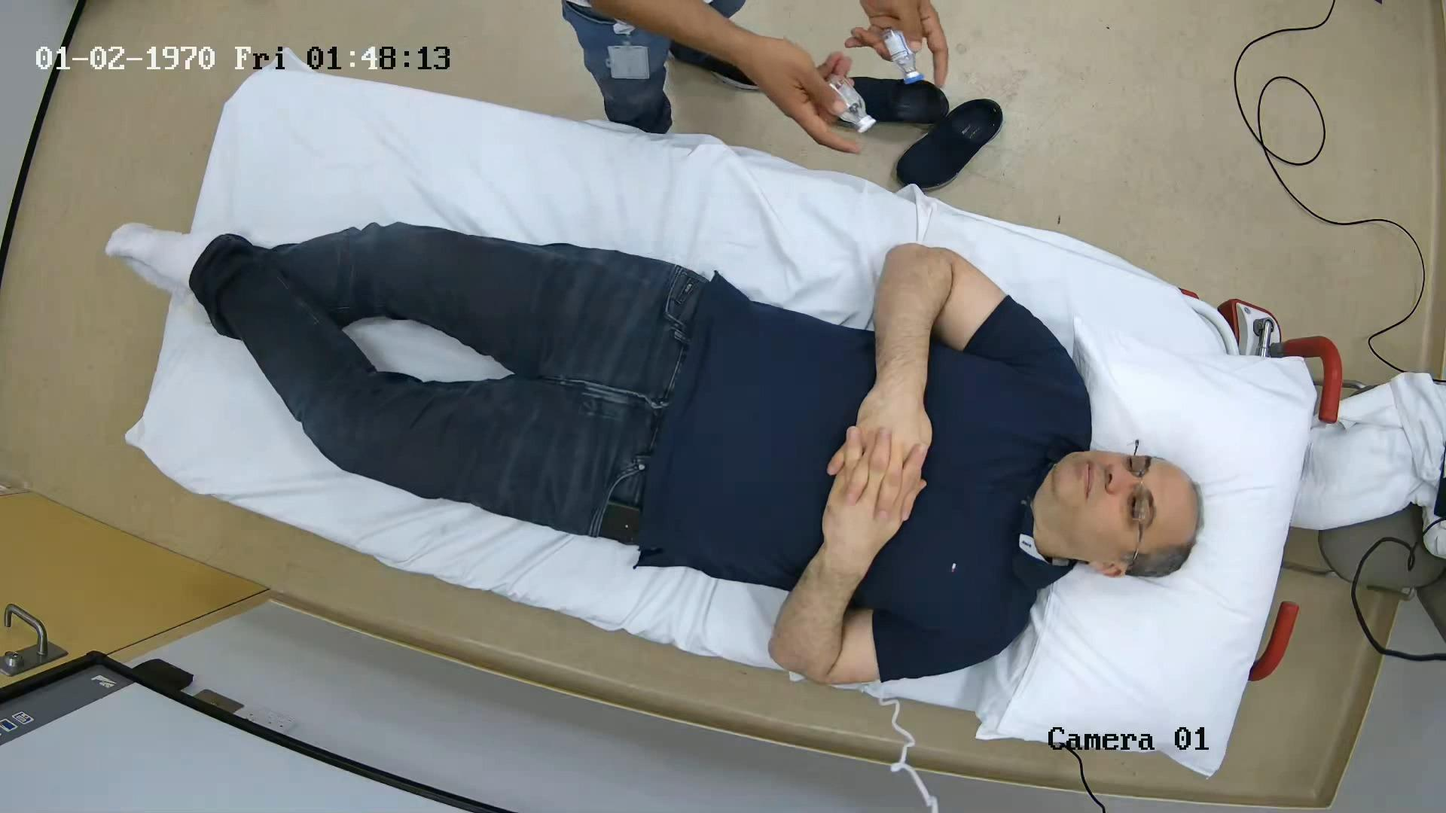augmentin: (830, 78, 875, 131)
bed: (127, 70, 1339, 775)
cefazolin: (883, 29, 924, 84)
patient: (152, 223, 1200, 684)
